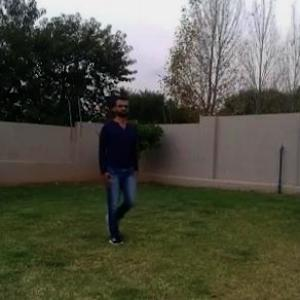follow: (102, 98, 136, 232)
